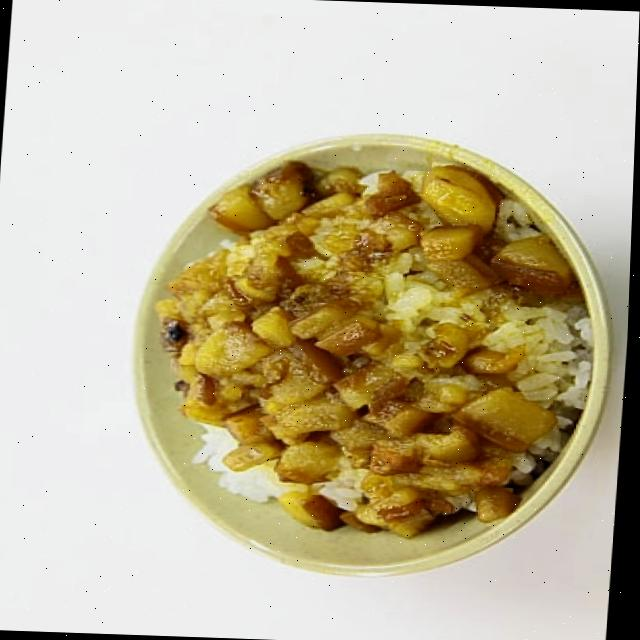猪肉菜式: (125, 126, 615, 579)
